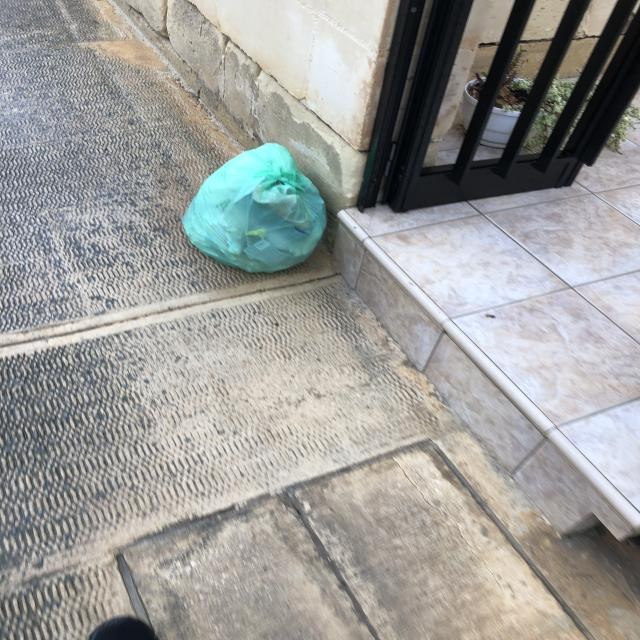Recycled Waste -Grey or Green Bag-: (181, 143, 328, 274)
